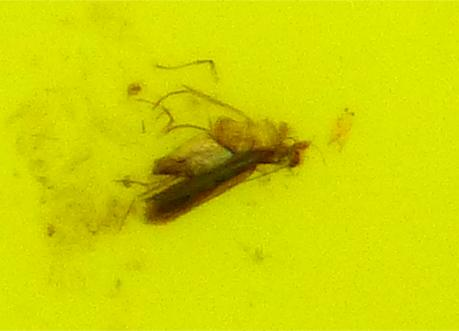Hemiptera: (325, 100, 359, 155)
Lepidoptera: (100, 117, 312, 231)
